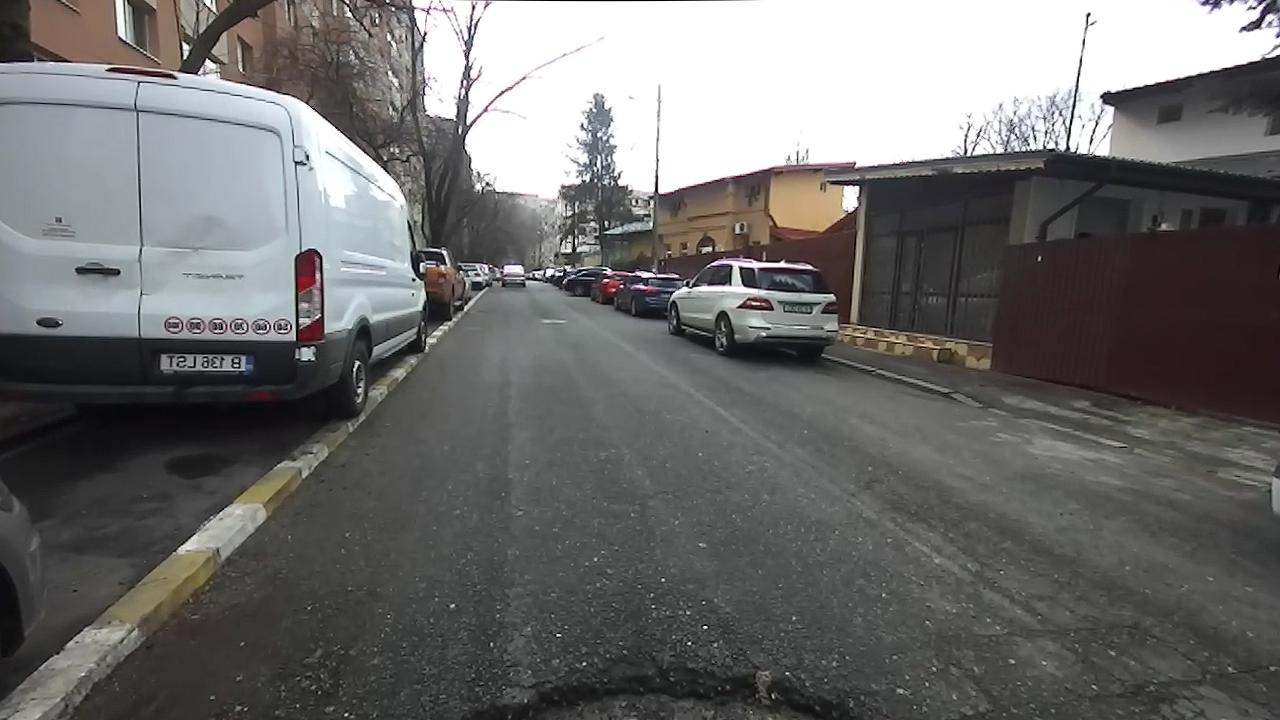pothole: (430, 656, 894, 719)
